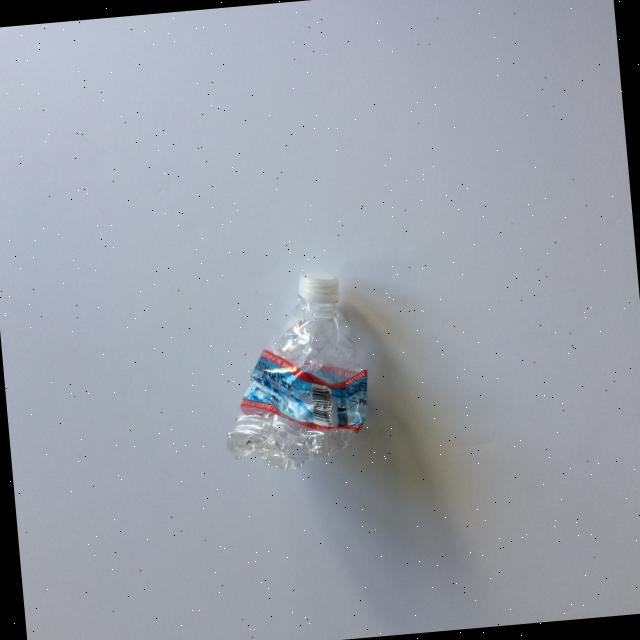plastic: (232, 278, 372, 526)
